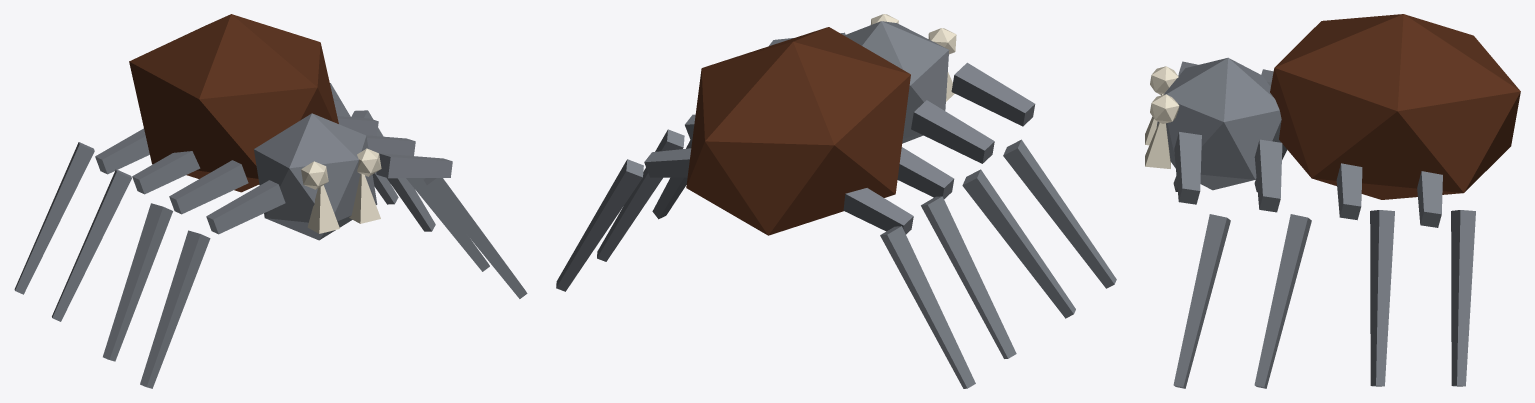
The model's file is npcpose_spider_attack_04.glb.
The picture shows the model from 3 angles, left to right: view 1: azimuth 30°, elevation 25°; view 2: azimuth 150°, elevation 25°; view 3: azimuth 270°, elevation 25°; orthographic projection. The views are drawn at different scales.
Visible parts, largest first — view 1: npcpose; view 2: npcpose; view 3: npcpose.
Boxes of the visible parts, bbox=[...] form: npcpose: bbox=[14, 14, 527, 388]; npcpose: bbox=[556, 14, 1116, 388]; npcpose: bbox=[1145, 14, 1520, 388].
Bounding box in the file's own units: 1.32 × 0.8281 × 1.02.
